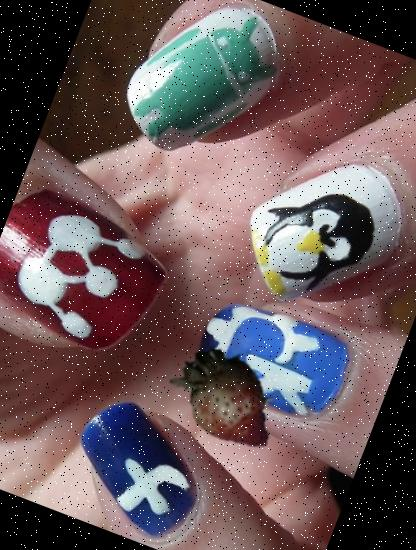Strawberry: (152, 330, 293, 470)
